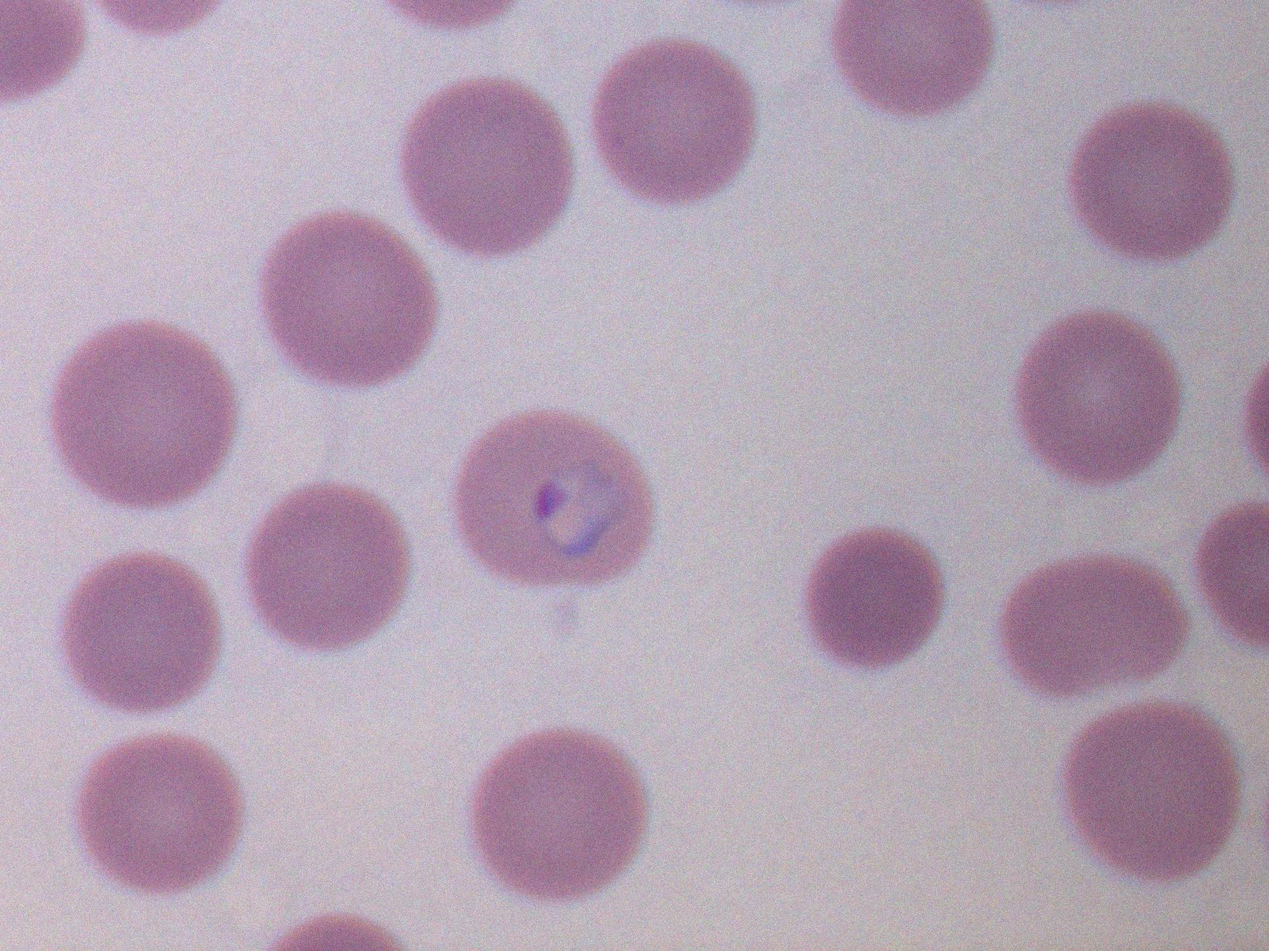Infected: (454, 413, 657, 590)
Uninfected: (53, 320, 236, 509), (260, 212, 442, 389), (1066, 703, 1241, 878), (474, 730, 646, 903), (405, 76, 573, 252), (75, 732, 251, 893), (1020, 311, 1181, 484), (59, 551, 228, 714), (1071, 98, 1238, 259), (251, 483, 410, 649), (595, 40, 758, 199), (1007, 560, 1185, 696), (802, 525, 946, 675), (835, 0, 999, 115)
